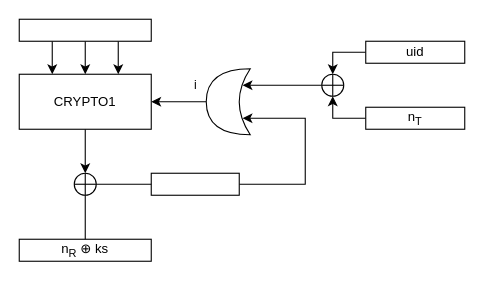
Some shapes in this 484 by 281 pixel diagram are drawn without their labels. Here are the shapes that lost their labels. From the top down, the box of each, then its label:
(18, 18, 151, 41): Klíč K
(150, 172, 239, 195): n R
